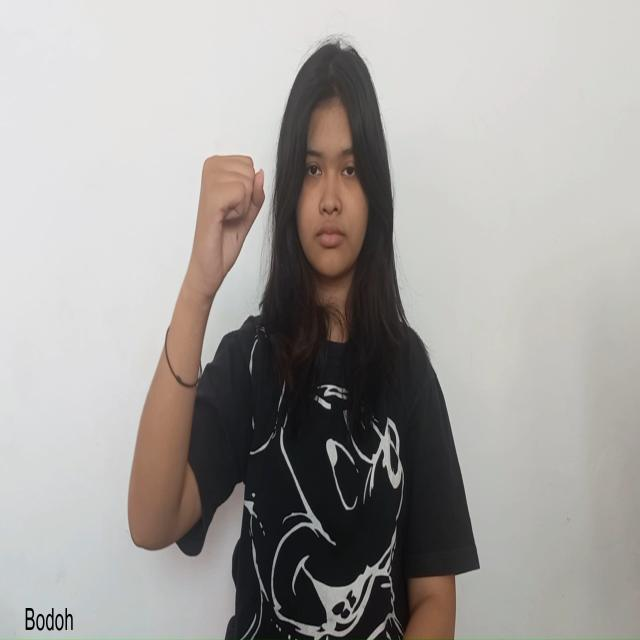Bodoh -BISINDO-: (188, 150, 267, 294)
